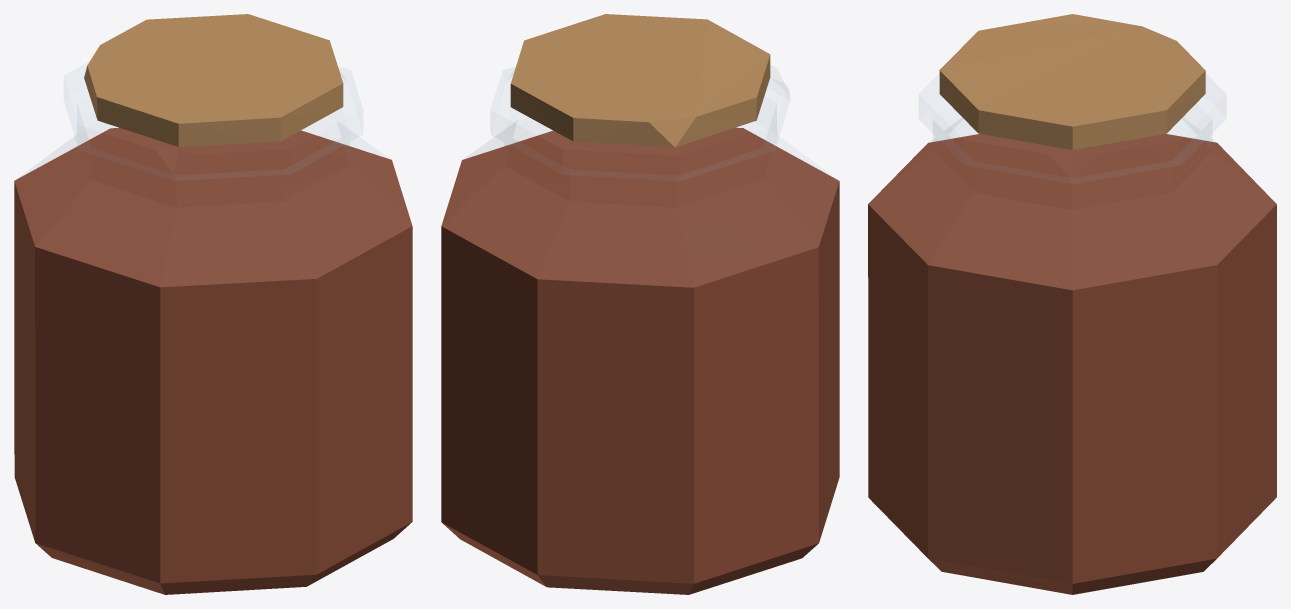
Rendered from SFI_Jar_019.fbx.
3 views of the same model, side by side, from view 1: azimuth 30°, elevation 25°; view 2: azimuth 150°, elevation 25°; view 3: azimuth 270°, elevation 25° (orthographic).
Visible parts, largest first — view 1: SFI_Jar_019; view 2: SFI_Jar_019; view 3: SFI_Jar_019.
Boxes of the visible parts, x1,y1,x2,y2 form: SFI_Jar_019: (14,14,412,594); SFI_Jar_019: (441,14,839,594); SFI_Jar_019: (868,14,1276,594).
Bounding box in the file's own units: 10.25 × 12.35 × 10.25.
